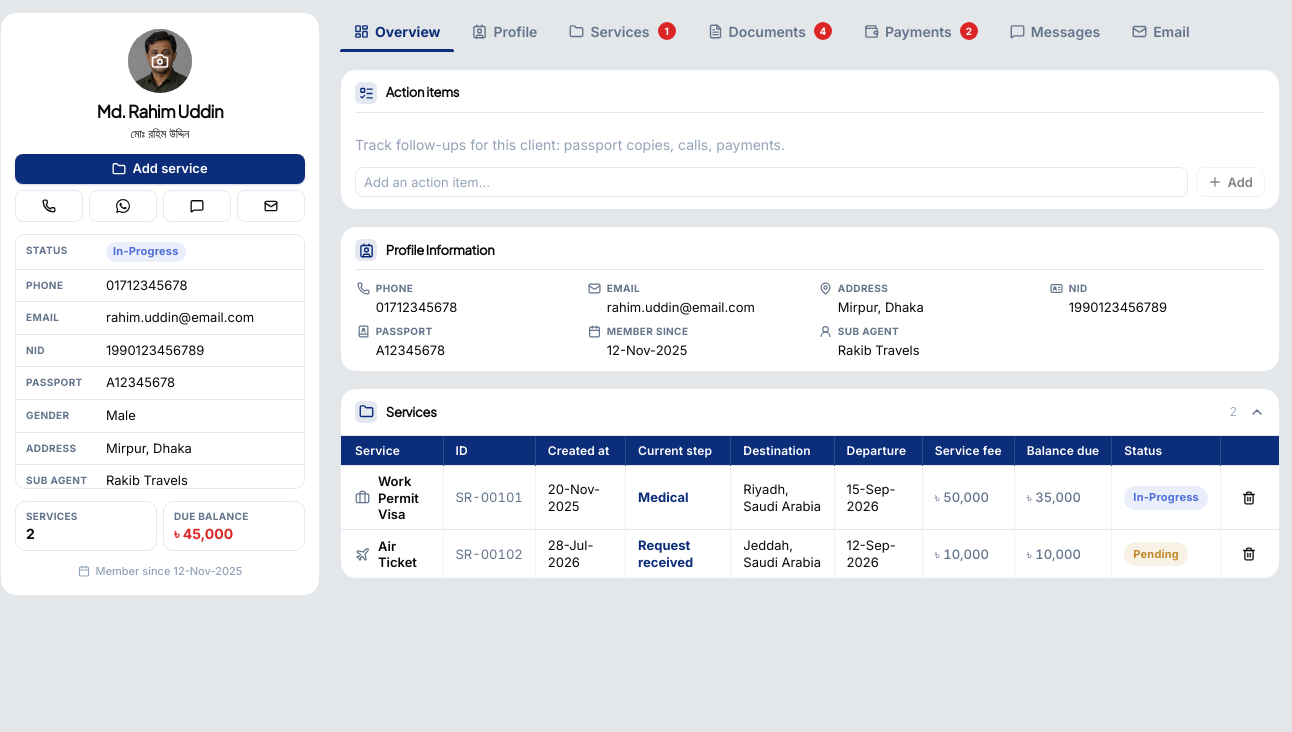
Test: client overview › lets staff add and complete action items on overview
Expected: the text "Track follow-ups for this client" is shown, [355,136,785,153]
Type "Collect passport copy" into the field named "New action item" at (771, 182), box [355,167,1188,197]
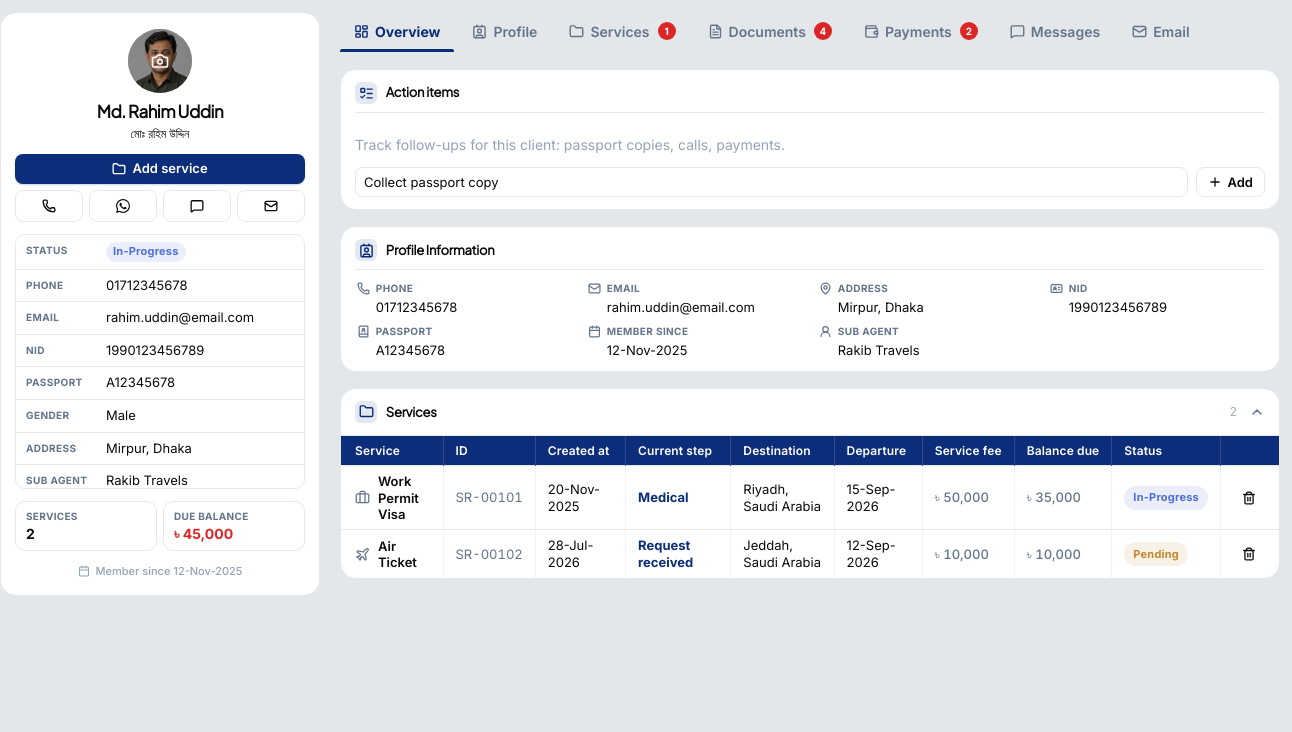
Click the button "Add" at (1230, 182), box [1196,167,1265,197]
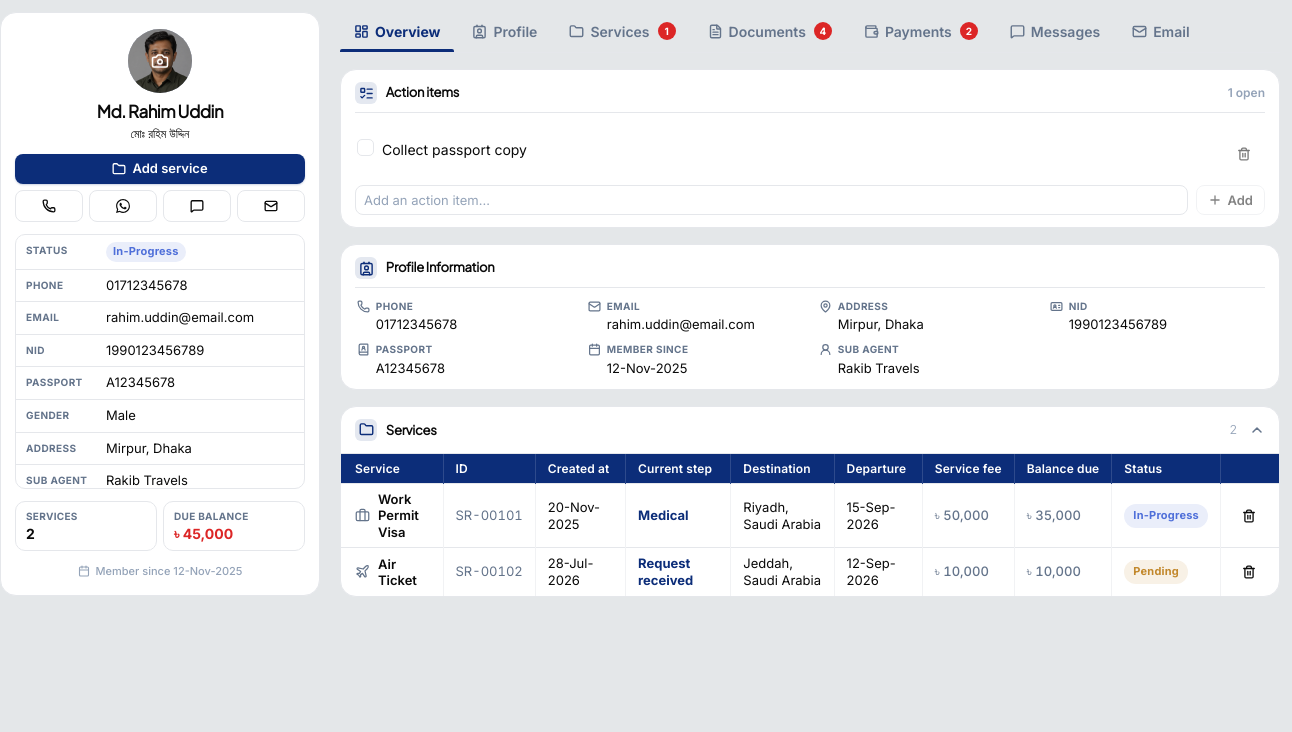
Expected: the checkbox labelled "Collect passport copy" is not checked
Expected: the text "1 open" is shown, [1228,84,1265,102]
Click the checkbox labelled "Collect passport copy" at (442, 148), box [357,139,527,158]
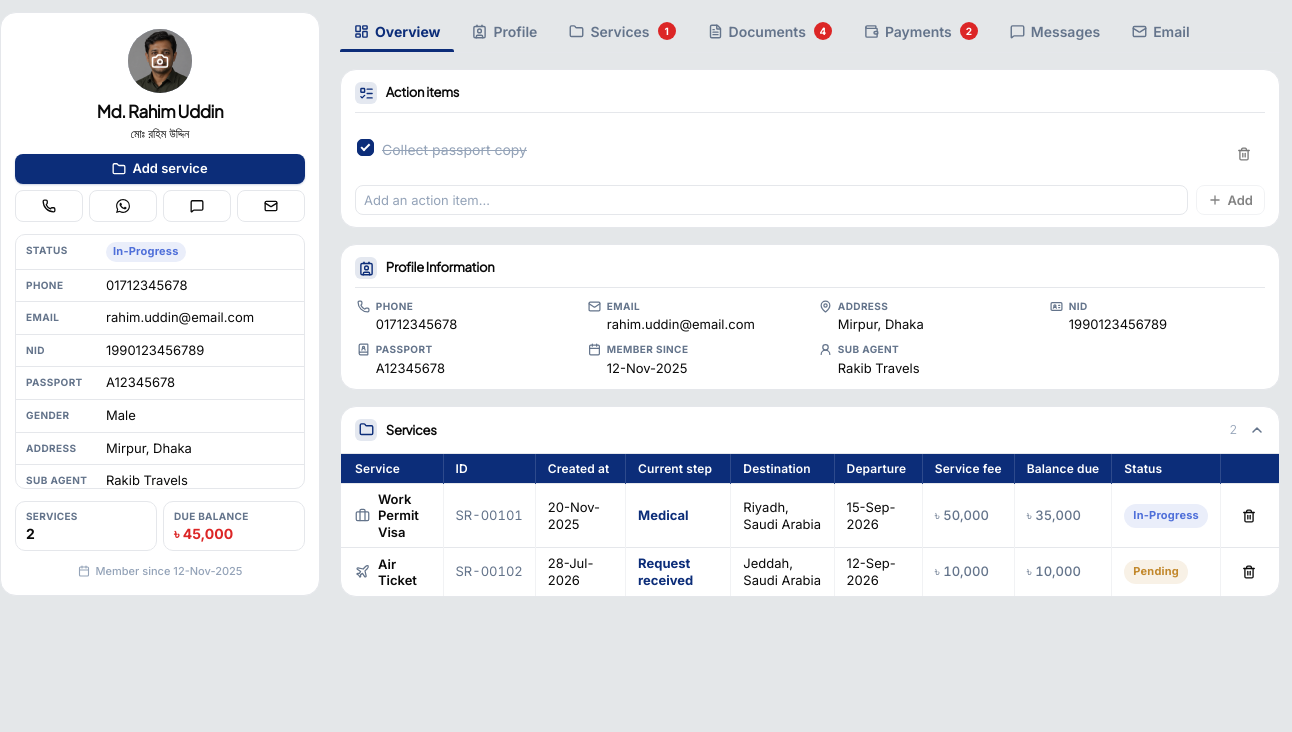
Expected: the checkbox labelled "Collect passport copy" is checked, [357,139,527,158]
Expected: the text "1 open" is gone
